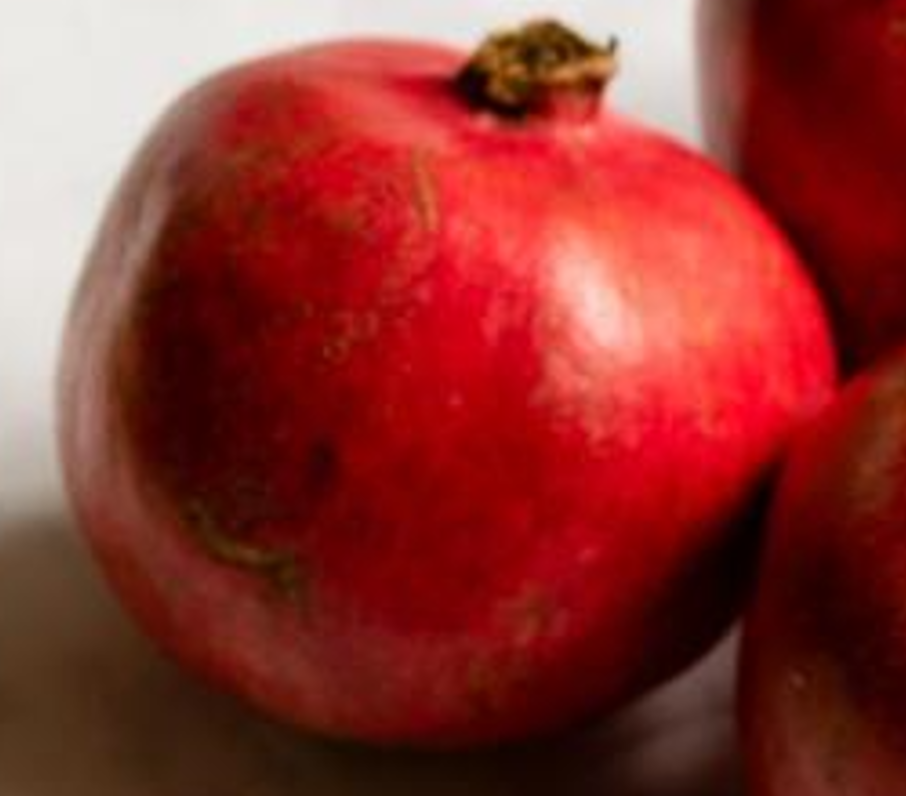pomegranate_B: (53, 19, 845, 748)
